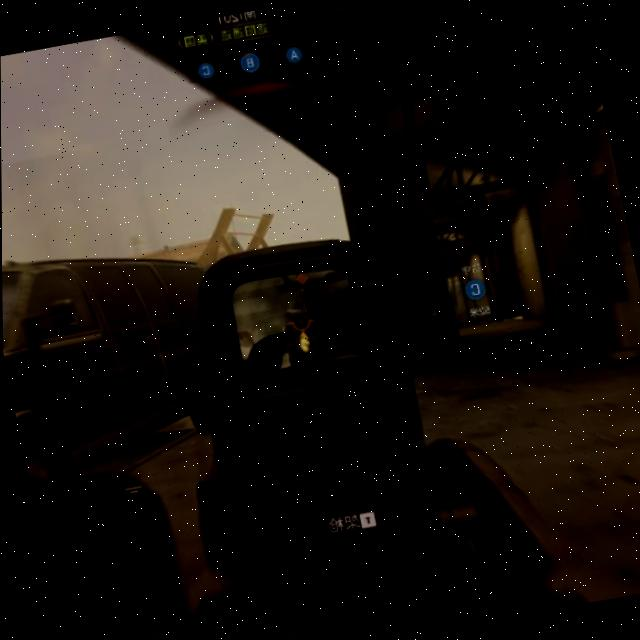MW2_body: (275, 271, 324, 368)
